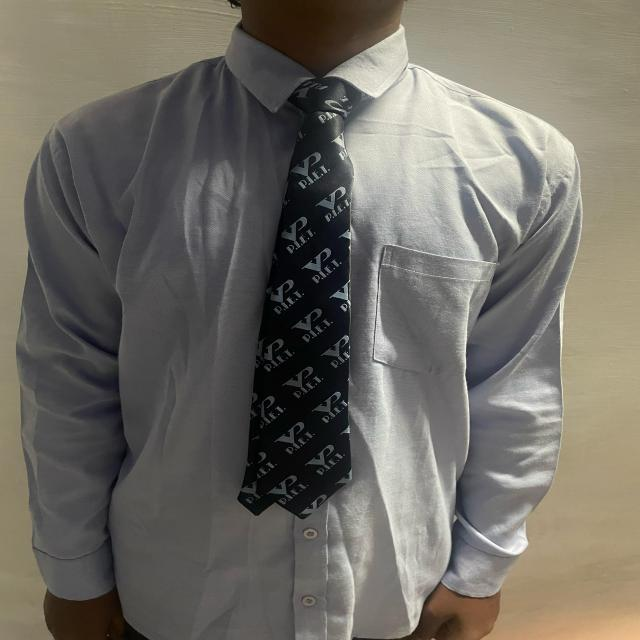Tie: (236, 76, 360, 519)
uniform: (15, 21, 582, 638)
